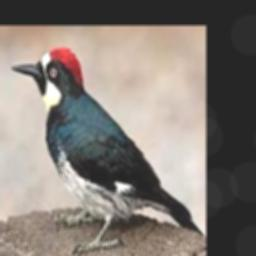Woodpecker: (10, 46, 203, 250)
